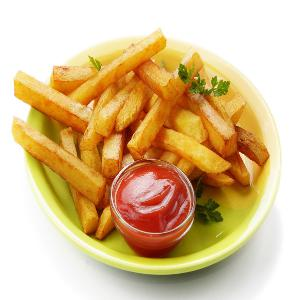fries_350cal: (6, 37, 264, 192)
